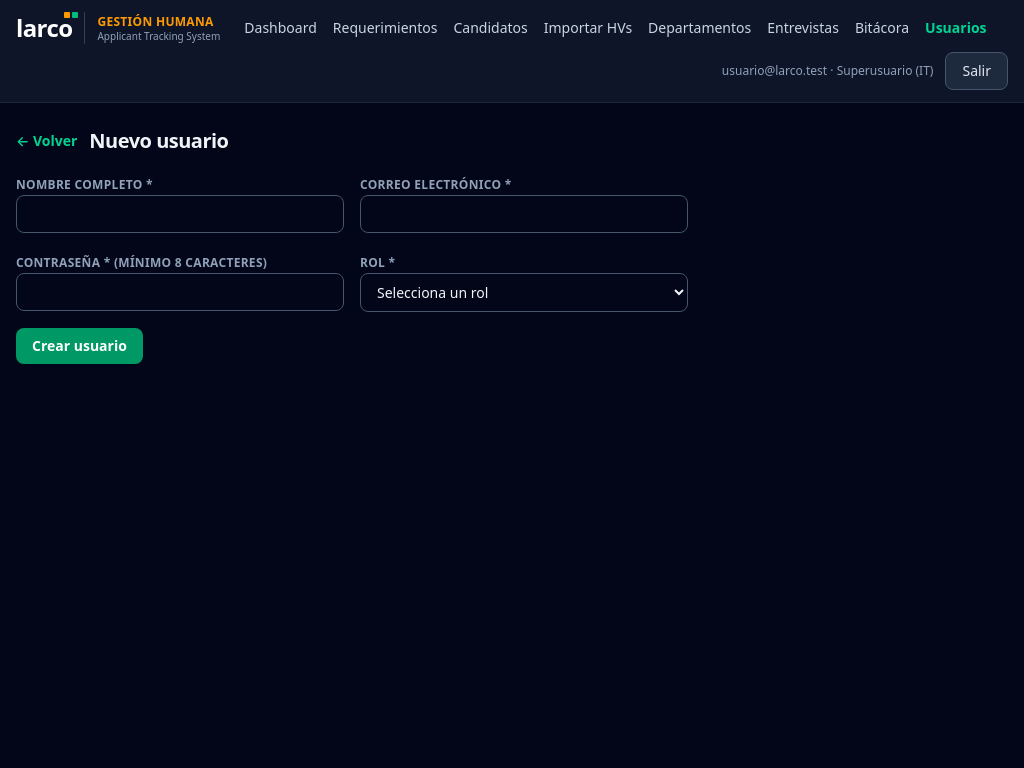
Scenario: alta de usuarios (/usuarios/nuevo) › crea el usuario con POST y vuelve al listado con aviso de éxito
expect the link "← Volver" is shown: met, box [16,131,77,151]
Type "Nuevo Usuario" into the field labelled "Nombre completo *". click: (180, 214)
box: [16,195,344,233]
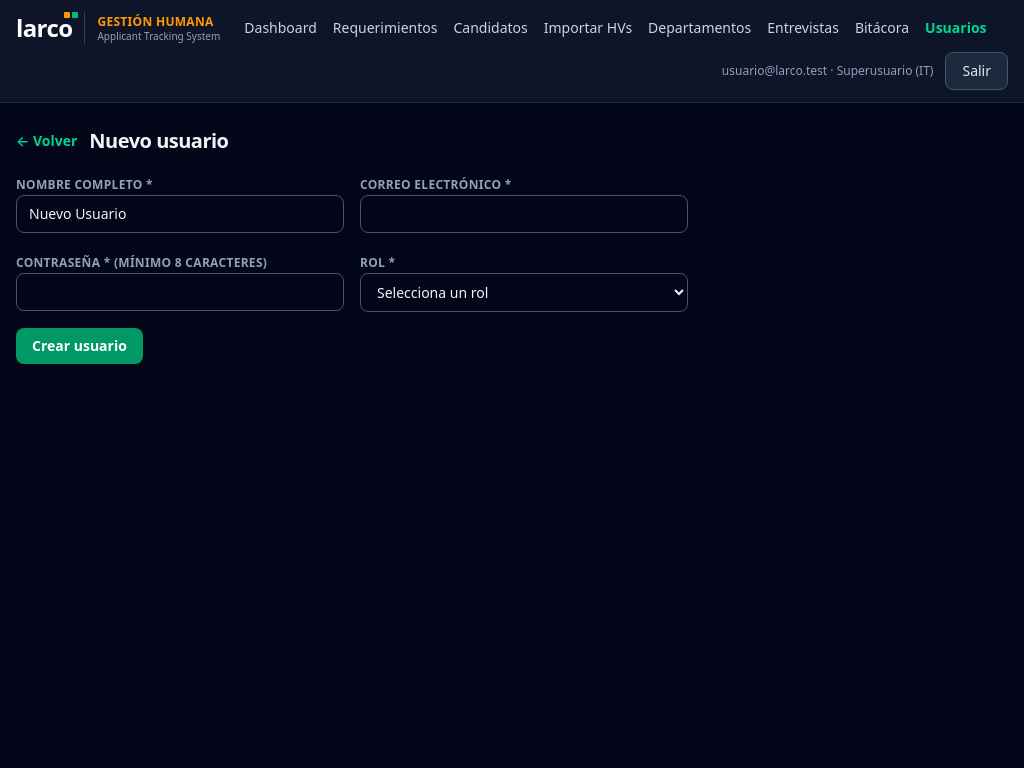
Type "nuevo@larco.test" into the field labelled "Correo electrónico *". click: (524, 214)
box: [360,195,688,233]
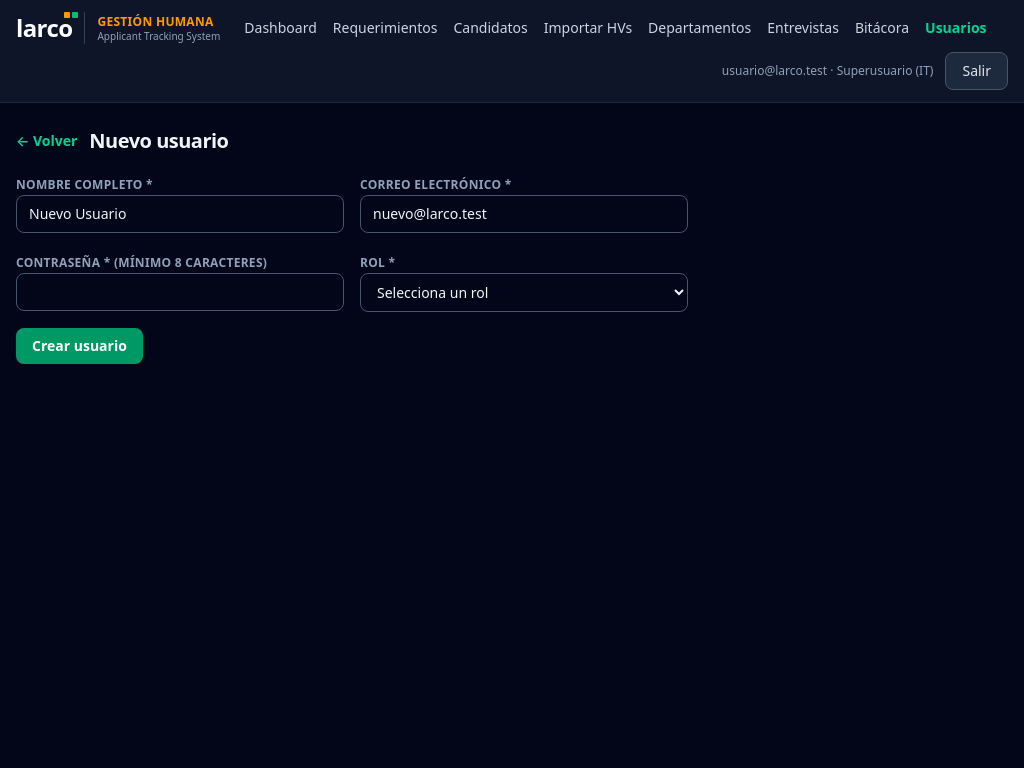
Type "secreta123" into the password field labelled "Contraseña * (mínimo 8 caracteres)". click: (180, 292)
box: [16,273,344,311]
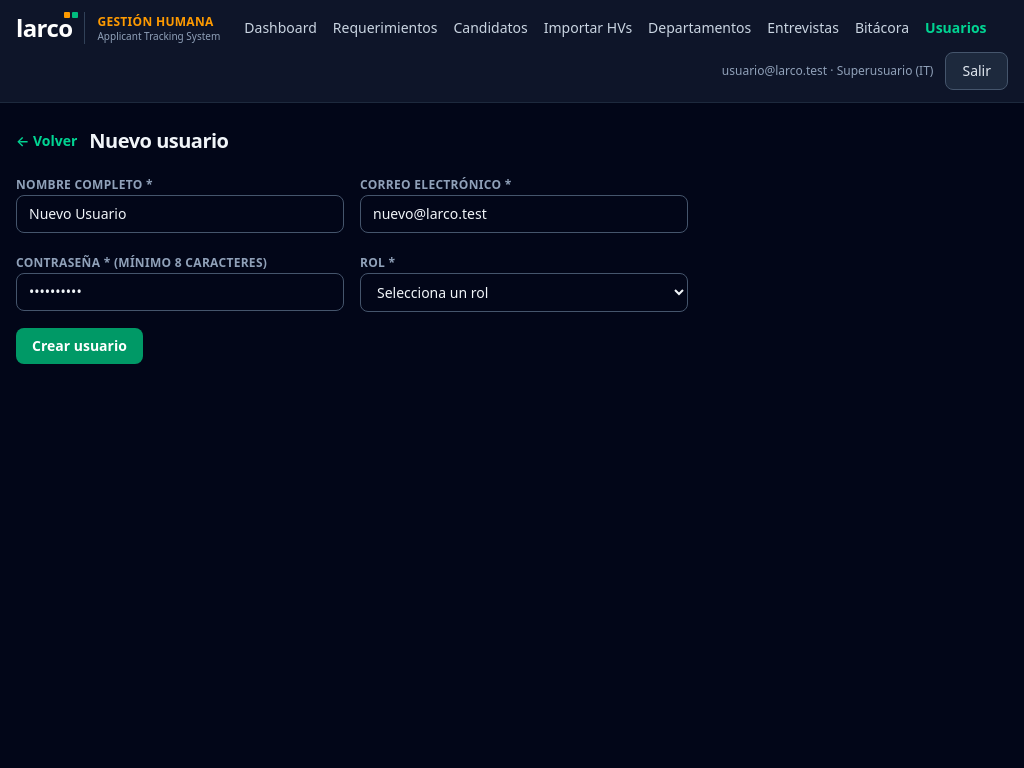
Select "Superusuario (IT)" in the dropdown labelled "Rol *". click: (524, 292)
box: [360,273,688,312]
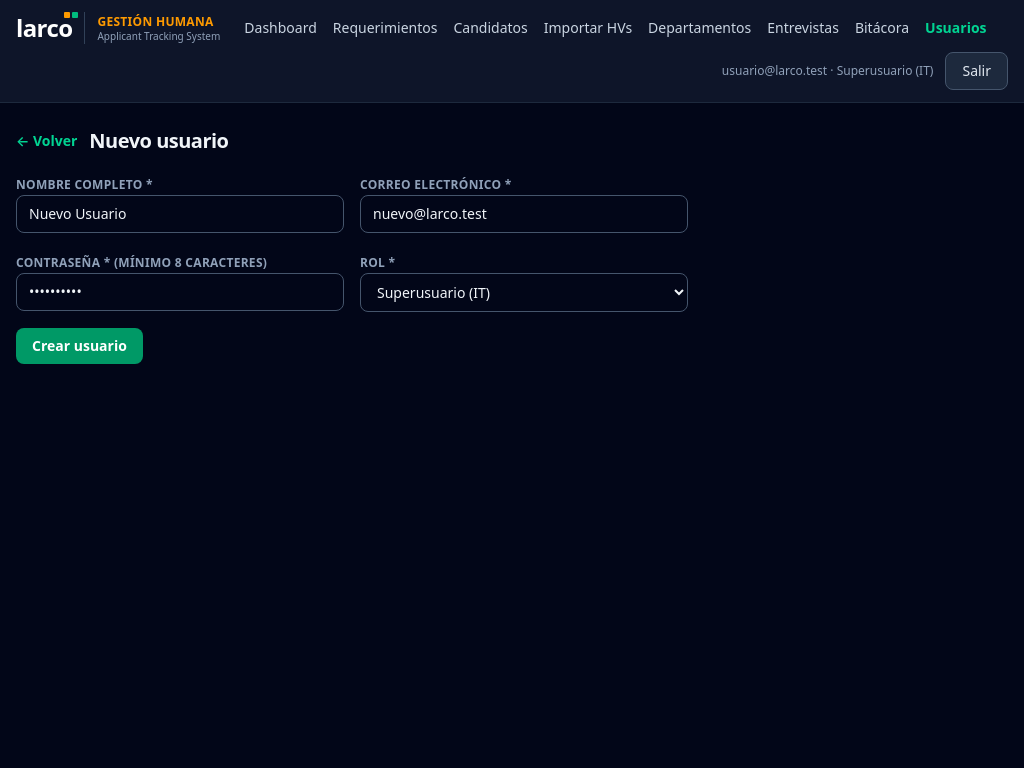
Click the button "Crear usuario". click: (79, 346)
box: [16,328,143,364]
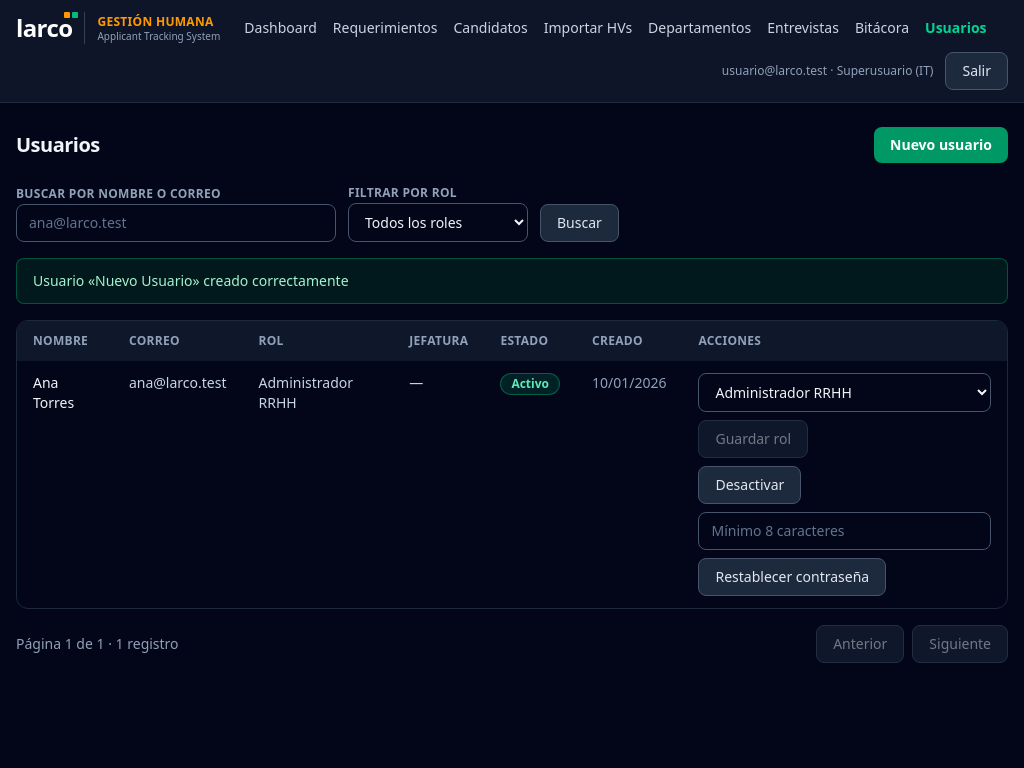
expect the heading "Usuarios" is shown: met, box [16,131,100,159]
expect the message shows "creado correctamente": met, box [33,271,349,290]
